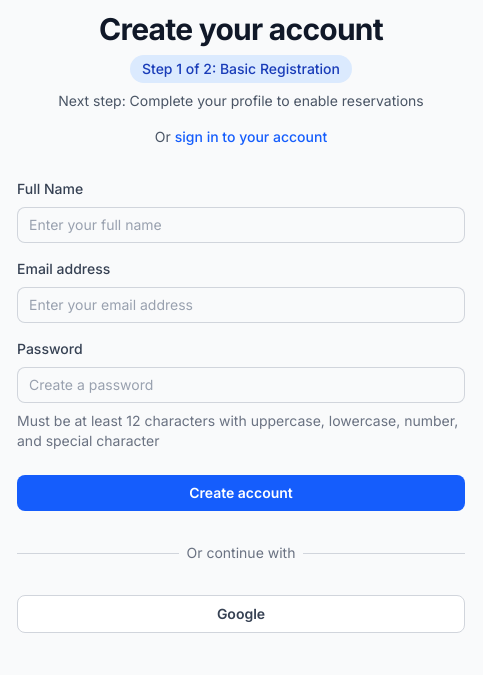
Scenario: RegisterPage › handles registration API error
The image size is (483, 675).
Type "Test User" into the field labelled "Full Name" at x=241, y=225, box x1=17 y1=207 x2=465 y2=243
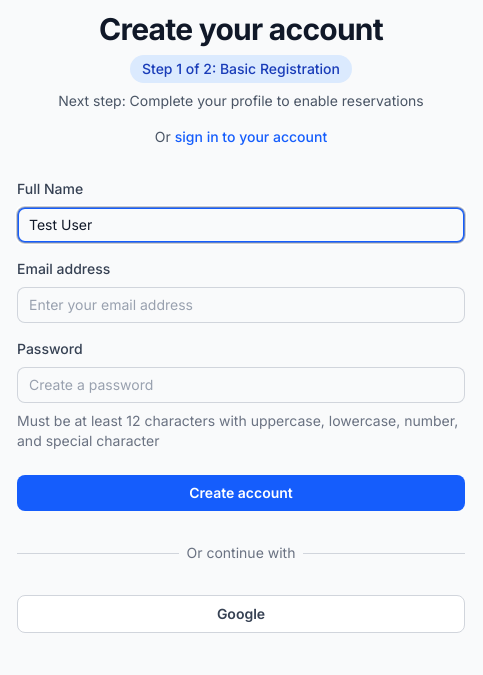
Type "test@example.com" into the field labelled "Email address" at x=241, y=305, box x1=17 y1=287 x2=465 y2=323
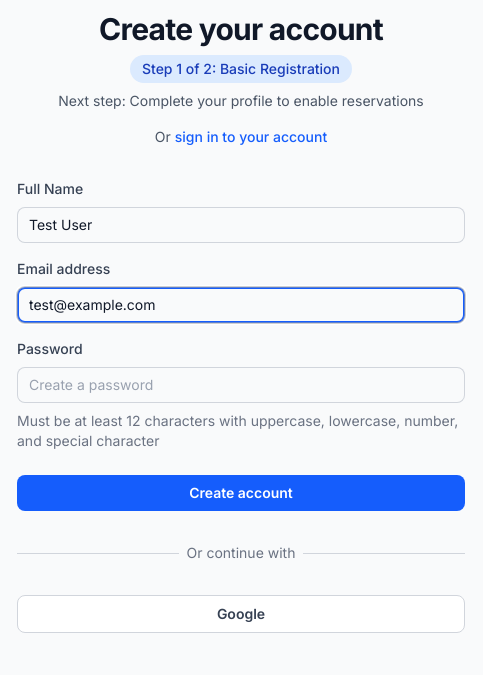
Type "Password123!@#" into the password field labelled "Password" at x=241, y=385, box x1=17 y1=367 x2=465 y2=403
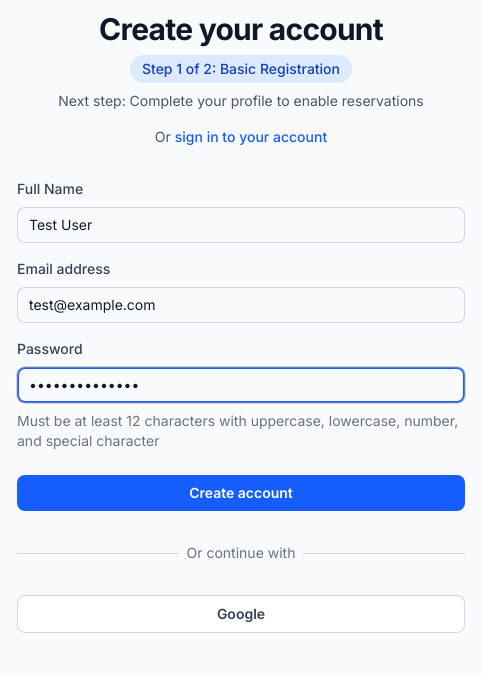
Click the button "Create account" at x=241, y=493, box x1=17 y1=475 x2=465 y2=511
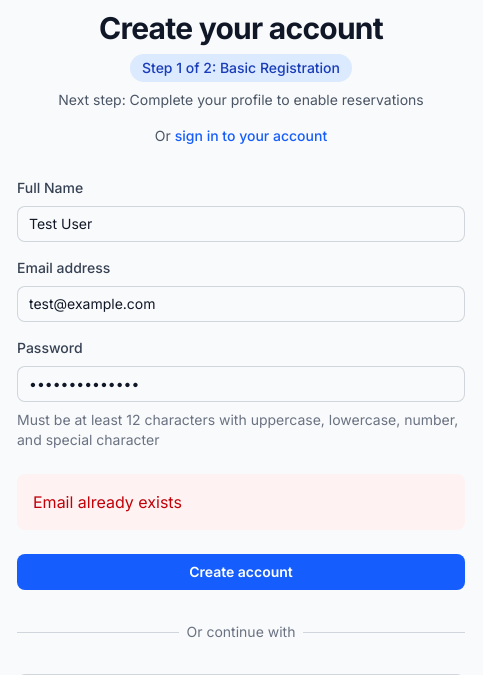
Now the text "Email already exists" is shown, box x1=17 y1=474 x2=465 y2=530
